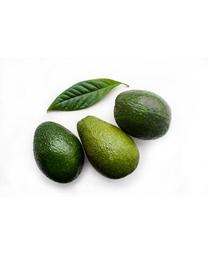avocado: (77, 116, 140, 180), (33, 122, 85, 183), (113, 90, 173, 141)
